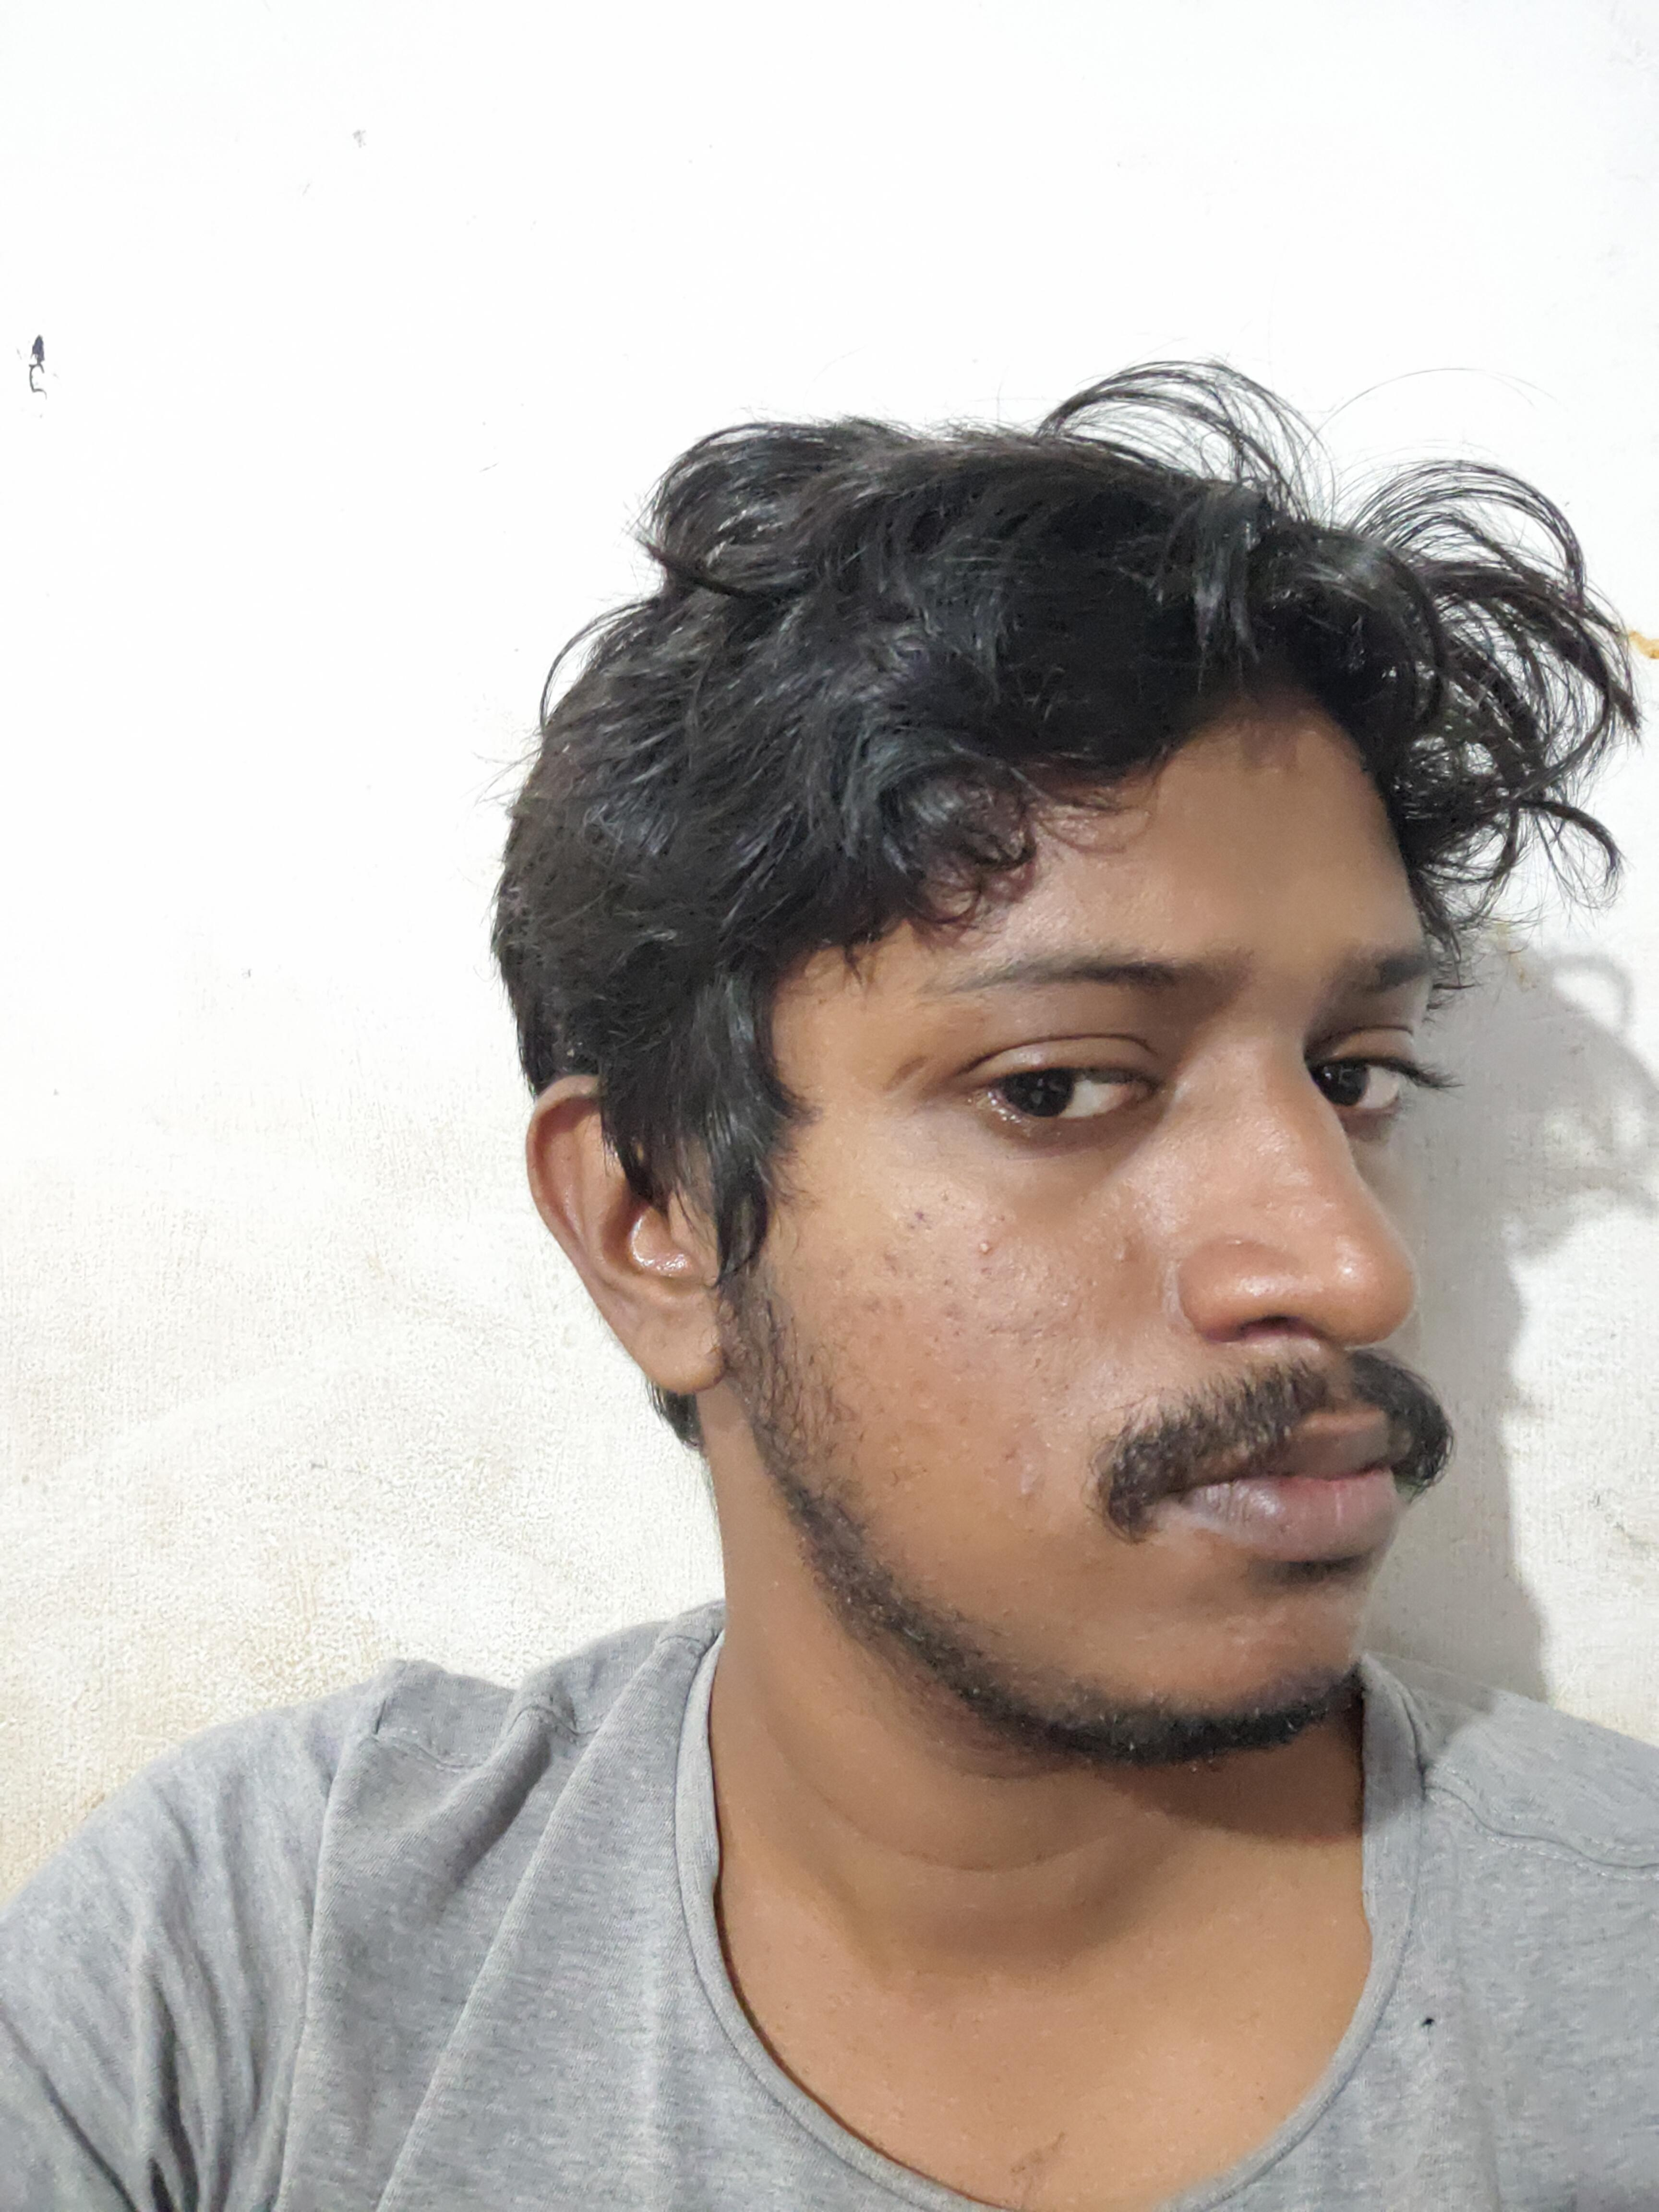Acne: (882, 1179, 974, 1334), (1108, 1237, 1152, 1284), (1011, 1465, 1051, 1508), (972, 1235, 1004, 1268), (1229, 1230, 1256, 1252)
Englarged-Pores: (939, 1275, 1140, 1385)
